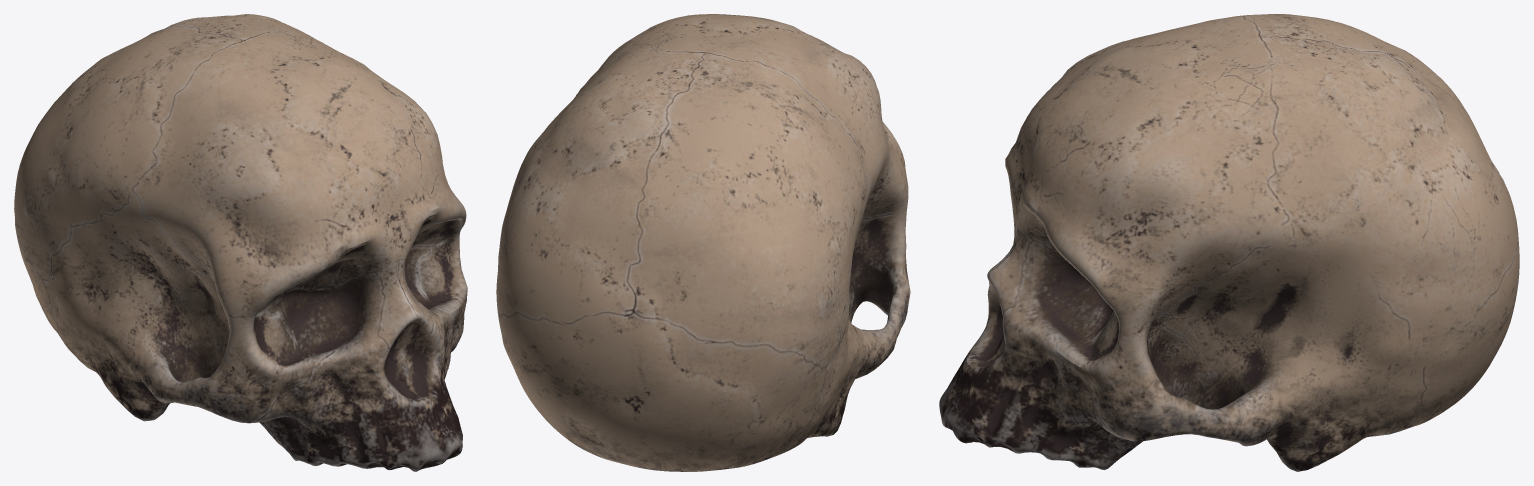
The model's file is realistic_human_skull.glb.
3 views of the same model, side by side, from view 1: azimuth 30°, elevation 25°; view 2: azimuth 150°, elevation 25°; view 3: azimuth 270°, elevation 25° (orthographic). The views are drawn at different scales.
Visible parts, largest first — view 1: Craneo_low; view 2: Craneo_low; view 3: Craneo_low.
Boxes of the visible parts, x1,y1,x2,y2 form: Craneo_low: (14,14,467,471); Craneo_low: (496,14,910,471); Craneo_low: (939,14,1519,471).
Size of the model in its own units: 1.59 by 1.62 by 2.23.
Materials: 1 (1 with a texture image).
